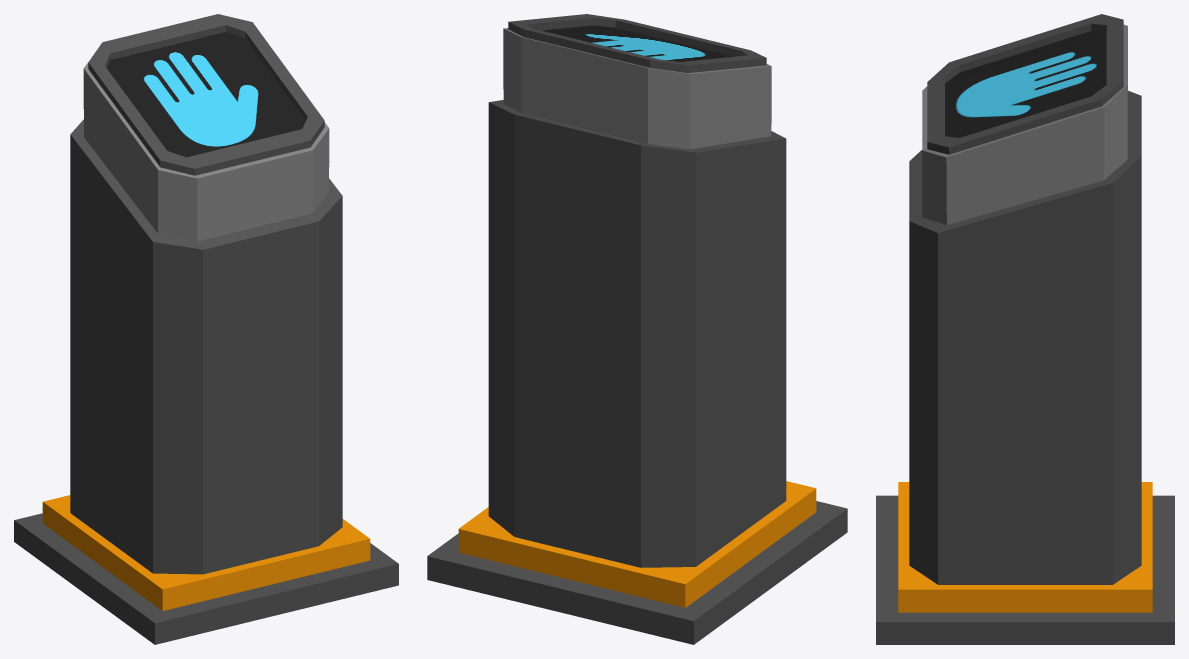
Rendered from hand_l.fbx.
3 renders of one model, left to right at view 1: azimuth 30°, elevation 25°; view 2: azimuth 150°, elevation 25°; view 3: azimuth 270°, elevation 25°, orthographic. The views are drawn at different scales.
Parts seen in each view (by area): view 1: hand_l_geo; view 2: hand_l_geo; view 3: hand_l_geo.
Boxes of the visible parts, x1,y1,x2,y2 form: hand_l_geo: (14,14,398,644); hand_l_geo: (427,14,847,644); hand_l_geo: (876,14,1174,644).
Size of the model in its own units: 1.76 by 3.46 by 1.76.
